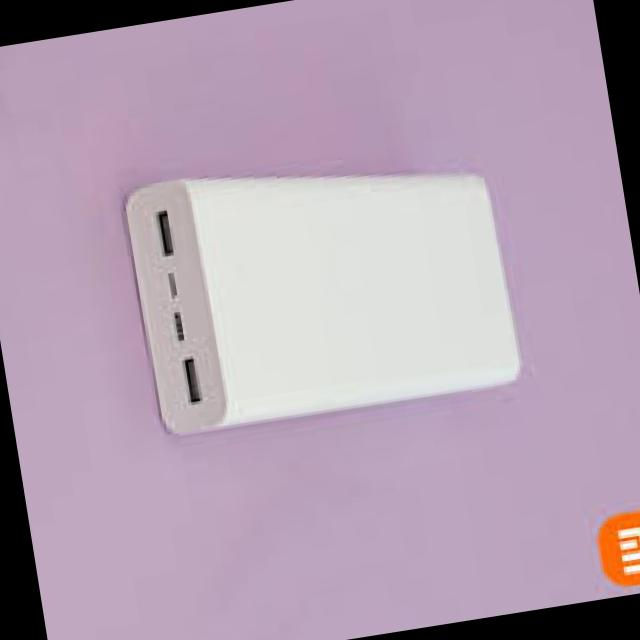portable-charger: (118, 136, 530, 450)
